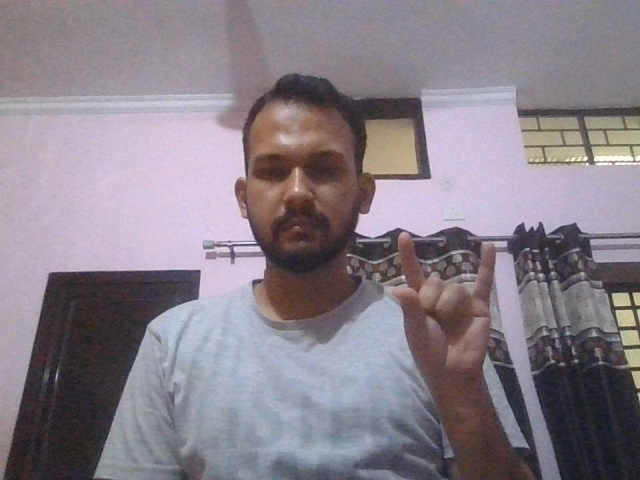iloveyou: (395, 230, 487, 376)
